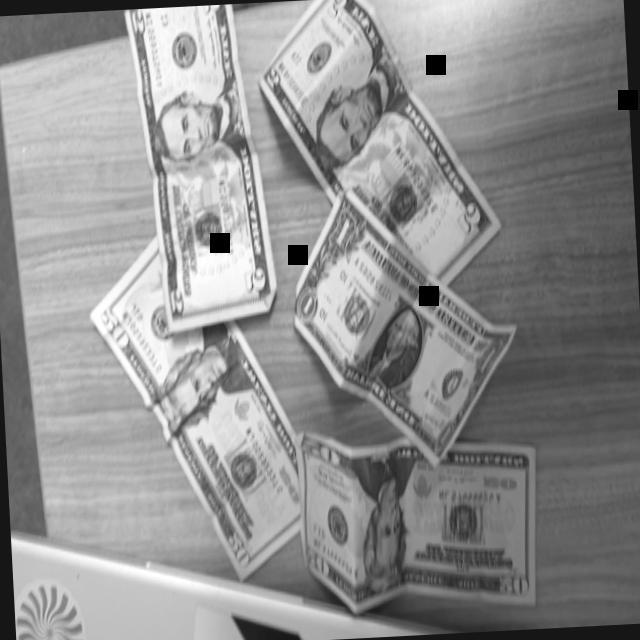five: (254, 0, 503, 299), (122, 2, 278, 338)
one: (286, 181, 524, 474)
twenty: (84, 223, 306, 591), (298, 421, 545, 617)
